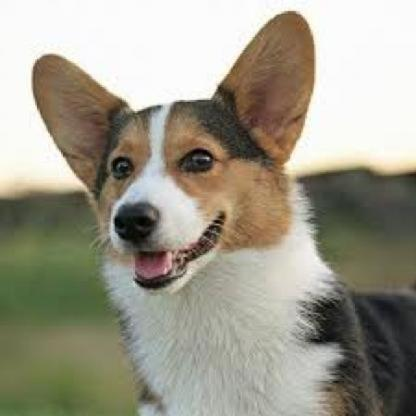dog: (30, 10, 415, 415)
